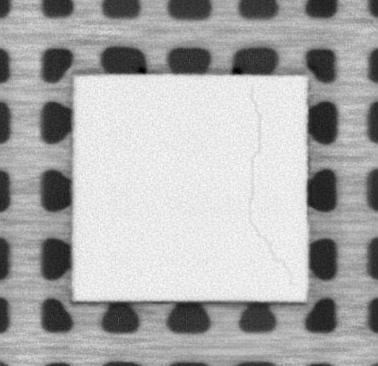DIE_CRACK: (245, 82, 293, 283)
